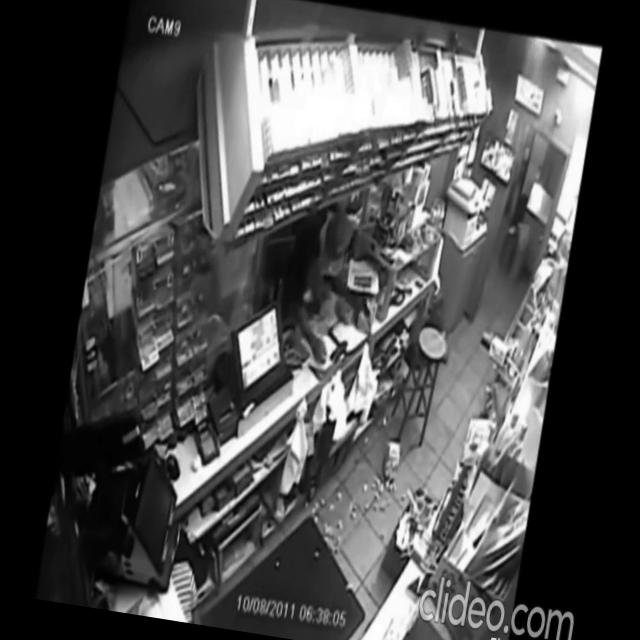person: (228, 182, 368, 399)
